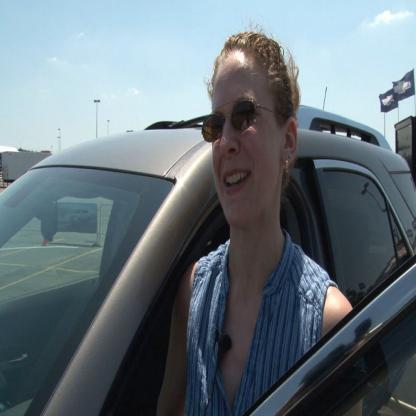Car: (0, 82, 416, 416)
